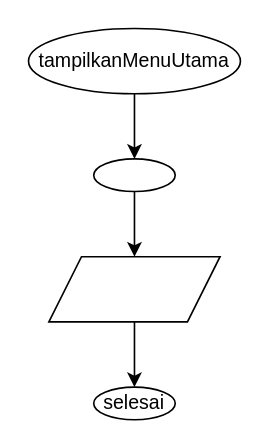
Image size: 269x448. Some labels were removed from this diagram. The shapes that lost their labels are listed below. From the top down, each one's box as (x1, y1, x2, y2) in pixels, then its label:
(92, 157, 175, 192): mulai
(47, 255, 220, 322): tampilan menu utama
